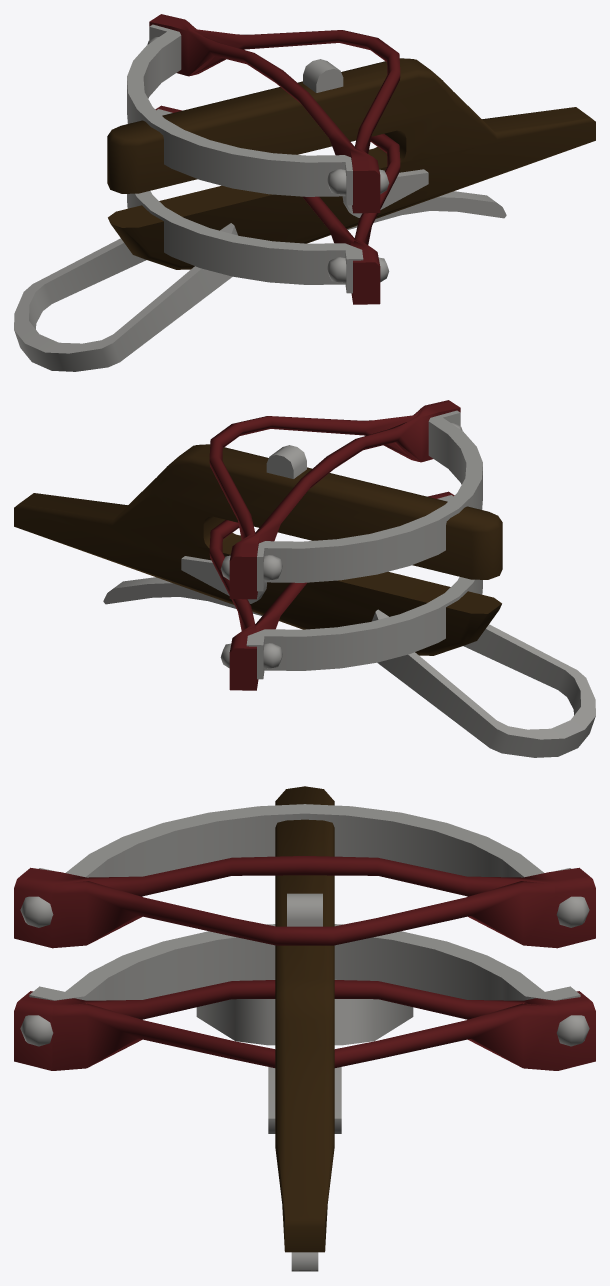
Rendered from double_crossbow.fbx.
The picture shows the model from 3 angles, top to bottom: view 1: azimuth 30°, elevation 25°; view 2: azimuth 150°, elevation 25°; view 3: azimuth 270°, elevation 25°; orthographic projection. The views are drawn at different scales.
Visible parts, largest first — view 1: double_crossbow, loader.001, upper_string_unloaded, upper_string_loaded, lower_string_unloaded, trigger, lower_string_loaded; view 2: double_crossbow, loader.001, upper_string_unloaded, upper_string_loaded, lower_string_unloaded, trigger, lower_string_loaded; view 3: double_crossbow, upper_string_loaded, lower_string_loaded, upper_string_unloaded, lower_string_unloaded, loader.001.
Boxes of the visible parts, box(x1,y1,x2,y2) form: double_crossbow: box(107, 24, 595, 293); loader.001: box(14, 223, 237, 371); upper_string_unloaded: box(149, 14, 380, 213); upper_string_loaded: box(187, 21, 400, 213); lower_string_unloaded: box(155, 105, 380, 304); trigger: box(347, 191, 506, 229); lower_string_loaded: box(169, 110, 400, 262); double_crossbow: box(14, 410, 502, 679); loader.001: box(372, 609, 595, 757); upper_string_unloaded: box(229, 400, 460, 598); upper_string_loaded: box(209, 407, 422, 599); lower_string_unloaded: box(229, 491, 454, 690); trigger: box(103, 577, 262, 615); lower_string_loaded: box(209, 494, 449, 648); double_crossbow: box(20, 786, 589, 1252); upper_string_loaded: box(14, 881, 595, 948); lower_string_loaded: box(28, 991, 588, 1070); upper_string_unloaded: box(14, 856, 595, 943); lower_string_unloaded: box(14, 980, 595, 1070); loader.001: box(196, 979, 413, 1045).
Size of the model in its own units: 166 by 65.73 by 111.
